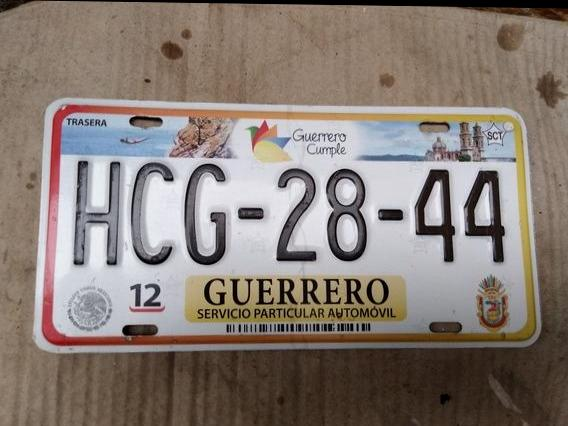License_Plate: (35, 93, 547, 370)
